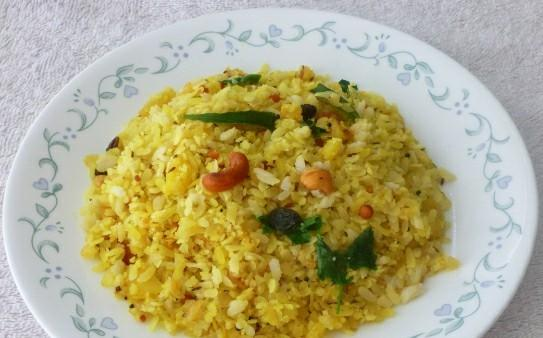Poha: (82, 63, 458, 338)
